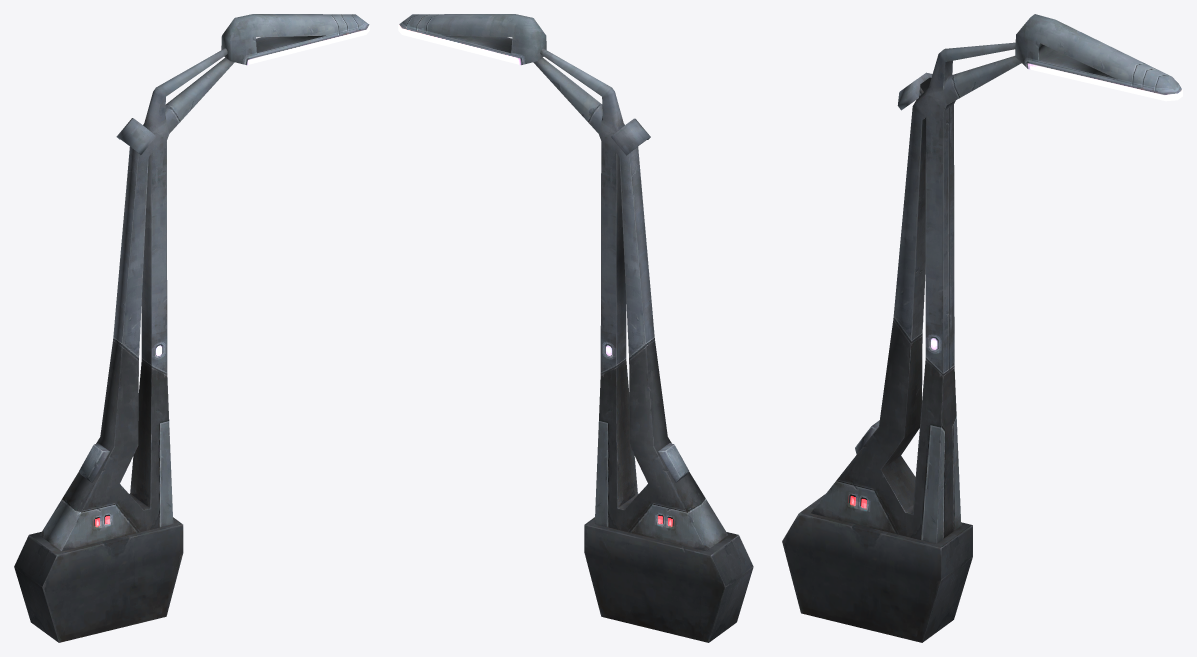
Rendered from all_item_imp_scaffold_light.glb.
The picture shows the model from 3 angles, left to right: view 1: azimuth 30°, elevation 25°; view 2: azimuth 150°, elevation 25°; view 3: azimuth 330°, elevation 25°; orthographic projection. The views are drawn at different scales.
Visible parts, largest first — view 1: all_item_imp_scaffold_light; view 2: all_item_imp_scaffold_light; view 3: all_item_imp_scaffold_light.
Part boxes in pixels (x1=…): all_item_imp_scaffold_light: x1=14, y1=14, x2=369, y2=642; all_item_imp_scaffold_light: x1=398, y1=14, x2=753, y2=642; all_item_imp_scaffold_light: x1=782, y1=14, x2=1182, y2=642.
Bounding box in the file's own units: 0.6278 × 1 × 0.0901.
1 material, 1 textured.
